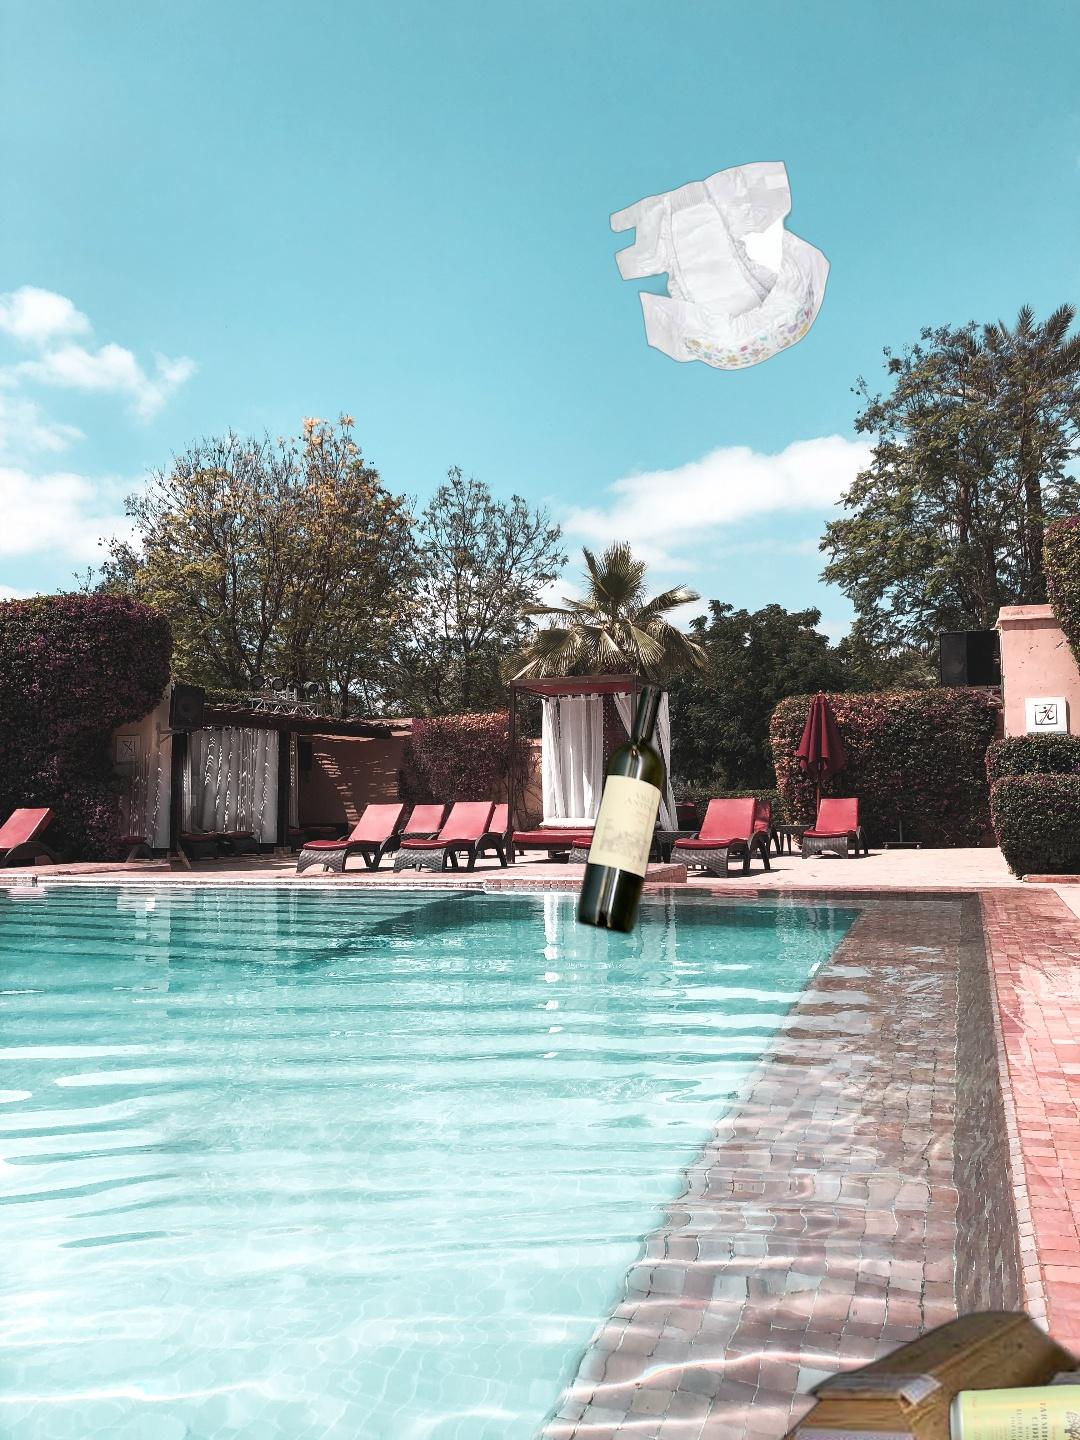glass: (571, 679, 669, 940)
metal-cans: (945, 1377, 1080, 1440)
trash: (607, 158, 832, 376)
trashbox-cardboard: (697, 1288, 1080, 1440)
